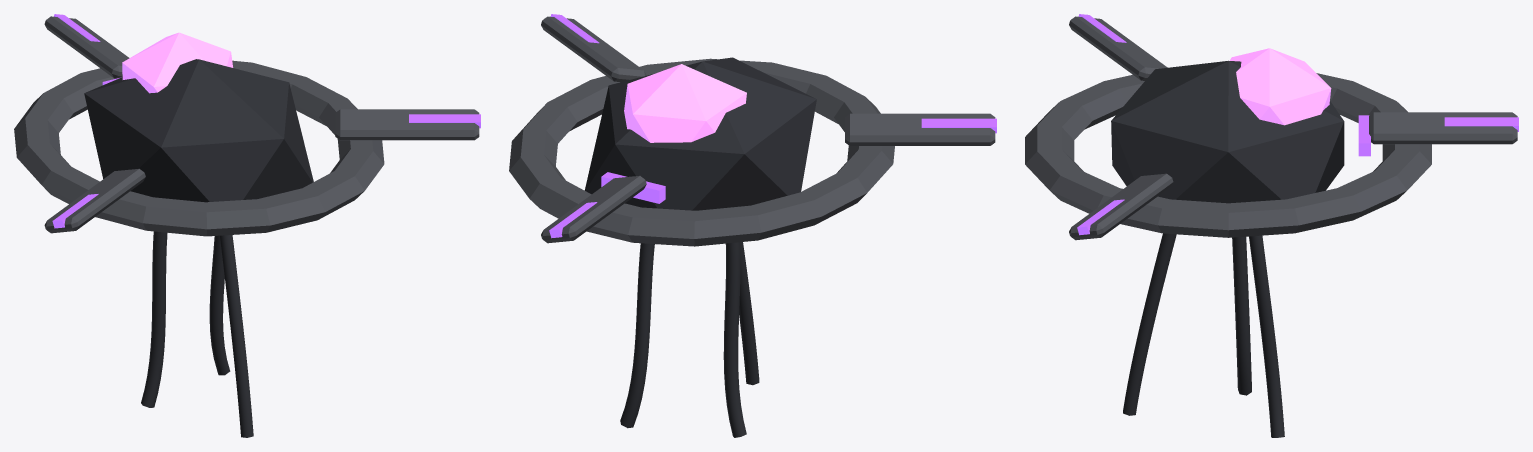
Rendered from TC_CHAR_GalaxabrainDrone_V1.gltf.
The picture shows the model from 3 angles, left to right: view 1: azimuth 30°, elevation 25°; view 2: azimuth 150°, elevation 25°; view 3: azimuth 270°, elevation 25°; orthographic projection. The views are drawn at different scales.
Visible parts, largest first — view 1: TC_Drone_Shell, TC_Drone_Ring, TC_Drone_Vane_2, TC_Drone_Braincase, TC_Drone_Tendril_2, TC_Drone_Tendril_1, TC_Drone_Vane_1, TC_Drone_Vane_0, TC_Drone_Tendril_0, TC_Drone_VaneGlow_2; view 2: TC_Drone_Ring, TC_Drone_Shell, TC_Drone_Braincase, TC_Drone_Vane_1, TC_Drone_Tendril_1, TC_Drone_Tendril_0, TC_Drone_Vane_2, TC_Drone_Vane_0, TC_Drone_Tendril_2, TC_Drone_VaneGlow_1, TC_Drone_EyeSlit; view 3: TC_Drone_Shell, TC_Drone_Ring, TC_Drone_Braincase, TC_Drone_Vane_0, TC_Drone_Tendril_0, TC_Drone_Tendril_2, TC_Drone_Vane_2, TC_Drone_Tendril_1, TC_Drone_Vane_1, TC_Drone_VaneGlow_0, TC_Drone_EyeSlit.
Boxes of the visible parts, left/top/right/bottom form: TC_Drone_Shell: left=84, top=59, right=313, bottom=202; TC_Drone_Ring: left=14, top=60, right=384, bottom=236; TC_Drone_Vane_2: left=335, top=109, right=479, bottom=140; TC_Drone_Braincase: left=122, top=32, right=233, bottom=93; TC_Drone_Tendril_2: left=220, top=235, right=253, bottom=437; TC_Drone_Tendril_1: left=141, top=231, right=167, bottom=407; TC_Drone_Vane_1: left=44, top=168, right=145, bottom=233; TC_Drone_Vane_0: left=44, top=16, right=129, bottom=78; TC_Drone_Tendril_0: left=209, top=235, right=230, bottom=375; TC_Drone_VaneGlow_2: left=409, top=114, right=480, bottom=128; TC_Drone_Ring: left=509, top=58, right=894, bottom=246; TC_Drone_Shell: left=584, top=57, right=816, bottom=210; TC_Drone_Braincase: left=624, top=64, right=746, bottom=142; TC_Drone_Vane_1: left=845, top=113, right=995, bottom=145; TC_Drone_Tendril_1: left=723, top=242, right=746, bottom=437; TC_Drone_Tendril_0: left=620, top=243, right=654, bottom=428; TC_Drone_Vane_2: left=541, top=16, right=646, bottom=82; TC_Drone_Vane_0: left=541, top=175, right=646, bottom=243; TC_Drone_Tendril_2: left=739, top=242, right=759, bottom=385; TC_Drone_VaneGlow_1: left=921, top=118, right=996, bottom=133; TC_Drone_EyeSlit: left=601, top=172, right=665, bottom=203; TC_Drone_Shell: left=1111, top=60, right=1344, bottom=203; TC_Drone_Ring: left=1025, top=73, right=1431, bottom=237; TC_Drone_Braincase: left=1229, top=48, right=1331, bottom=125; TC_Drone_Vane_0: left=1369, top=112, right=1517, bottom=144; TC_Drone_Tendril_0: left=1249, top=235, right=1284, bottom=437; TC_Drone_Tendril_2: left=1123, top=233, right=1176, bottom=415; TC_Drone_Vane_2: left=1069, top=173, right=1173, bottom=240; TC_Drone_Tendril_1: left=1232, top=236, right=1251, bottom=395; TC_Drone_Vane_1: left=1069, top=16, right=1167, bottom=80; TC_Drone_VaneGlow_0: left=1444, top=117, right=1518, bottom=131; TC_Drone_EyeSlit: left=1358, top=115, right=1370, bottom=156.
Size of the model in its own units: 1.25 by 0.9804 by 1.2.
